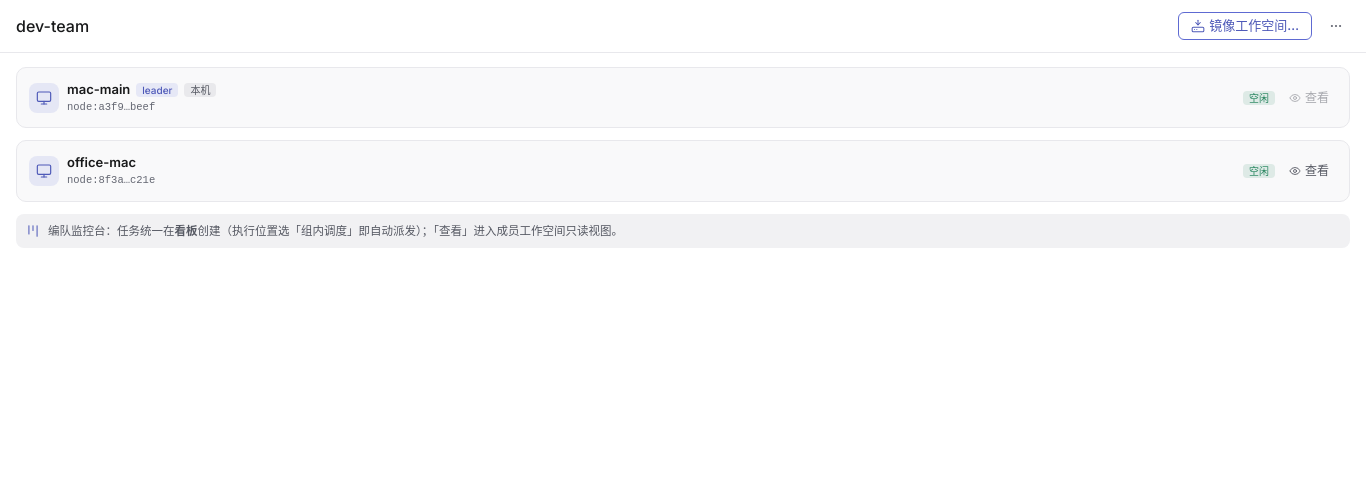
Test: WorkgroupView 查看链路（T4：S3b 选择器 + S4 全宽查看态） › 单空间直达：节点卡「查看」后跳过选择器直接进全宽查看态
What coordinates should you click on to do the following:
click the button "查看" in the row of "8f3a…c21e"
I would click on:
 (1309, 171)
Its box is [1281,159,1337,183].
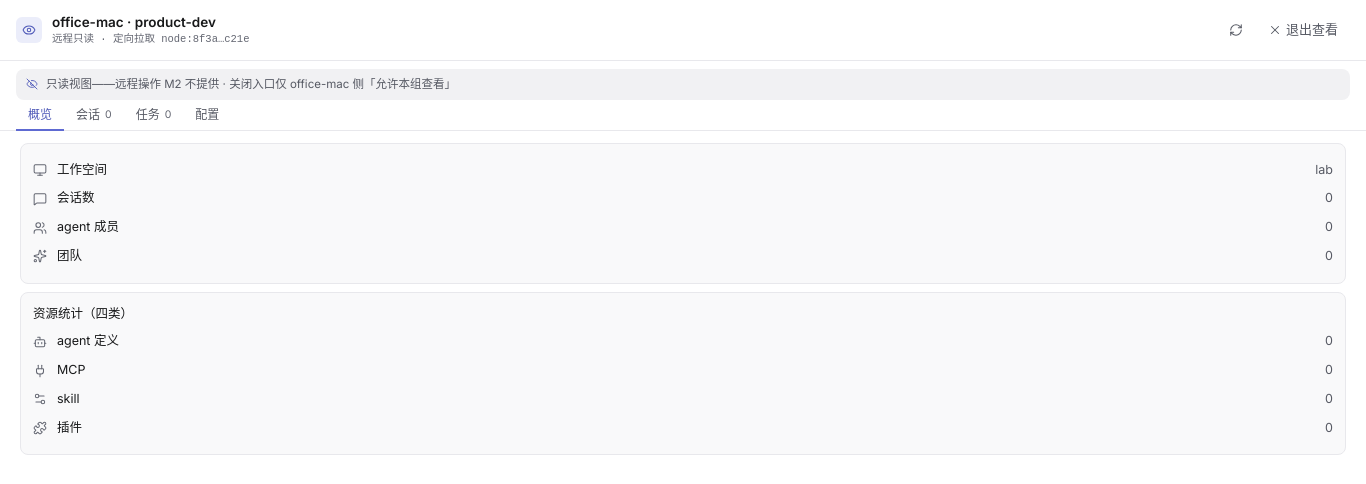
Result: the element named "查看 office-mac 的工作空间 product-dev" is shown
